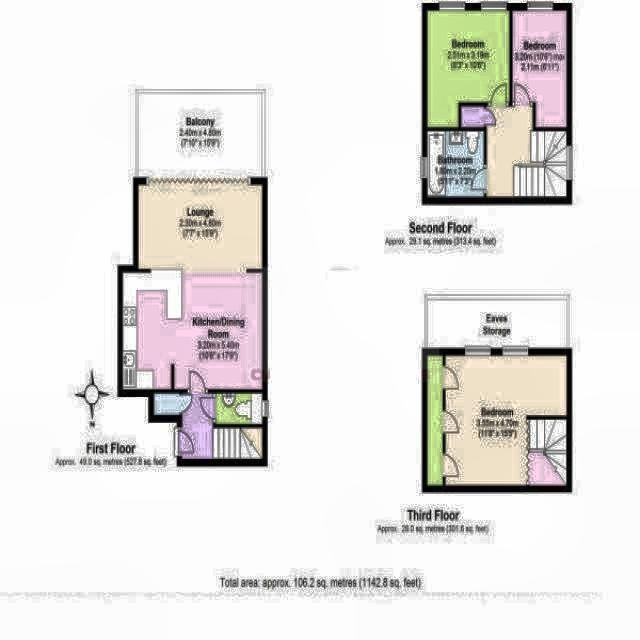room: (123, 185, 262, 390), (446, 356, 566, 485), (138, 93, 262, 176), (427, 11, 509, 127), (427, 300, 567, 347), (461, 106, 533, 196), (512, 11, 566, 126), (428, 131, 483, 196), (183, 394, 213, 459), (428, 356, 442, 484), (216, 394, 263, 423), (154, 394, 179, 414)
